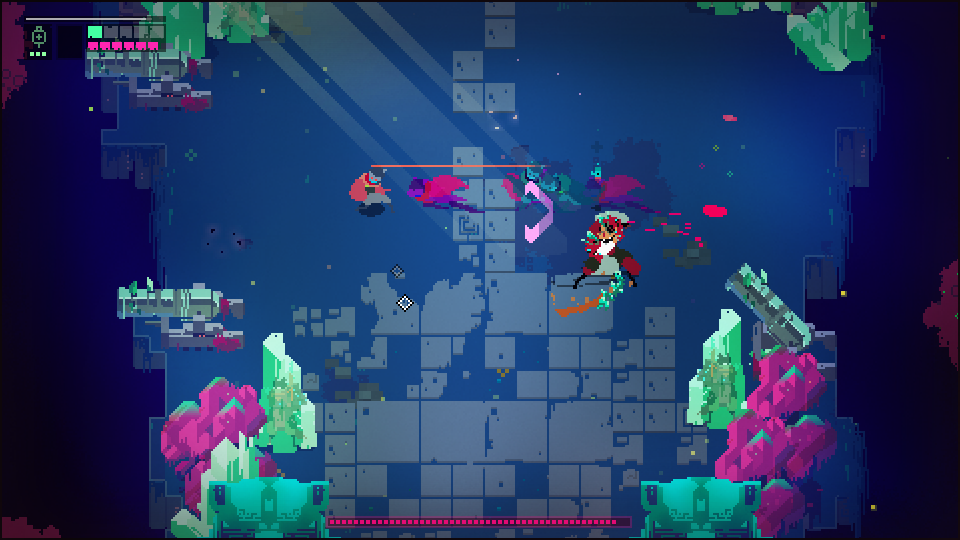hanged_man: (567, 205, 644, 315)
player: (346, 170, 398, 213)
